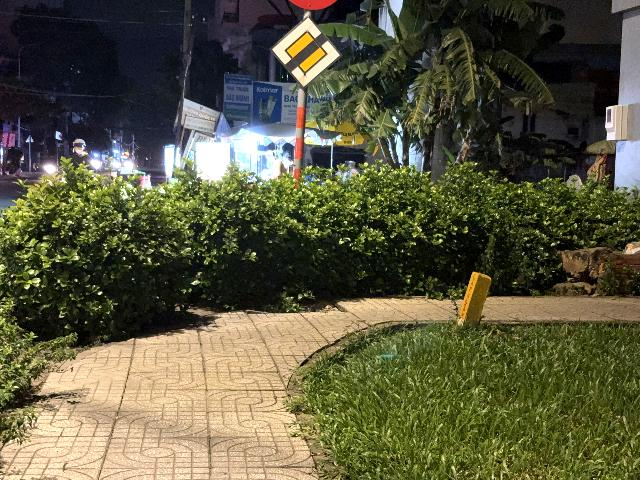het-duong-uu-tien: (269, 15, 342, 89)
